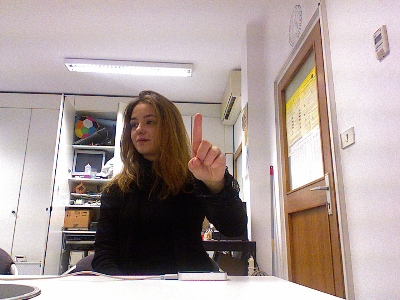食指: (186, 112, 226, 183)
